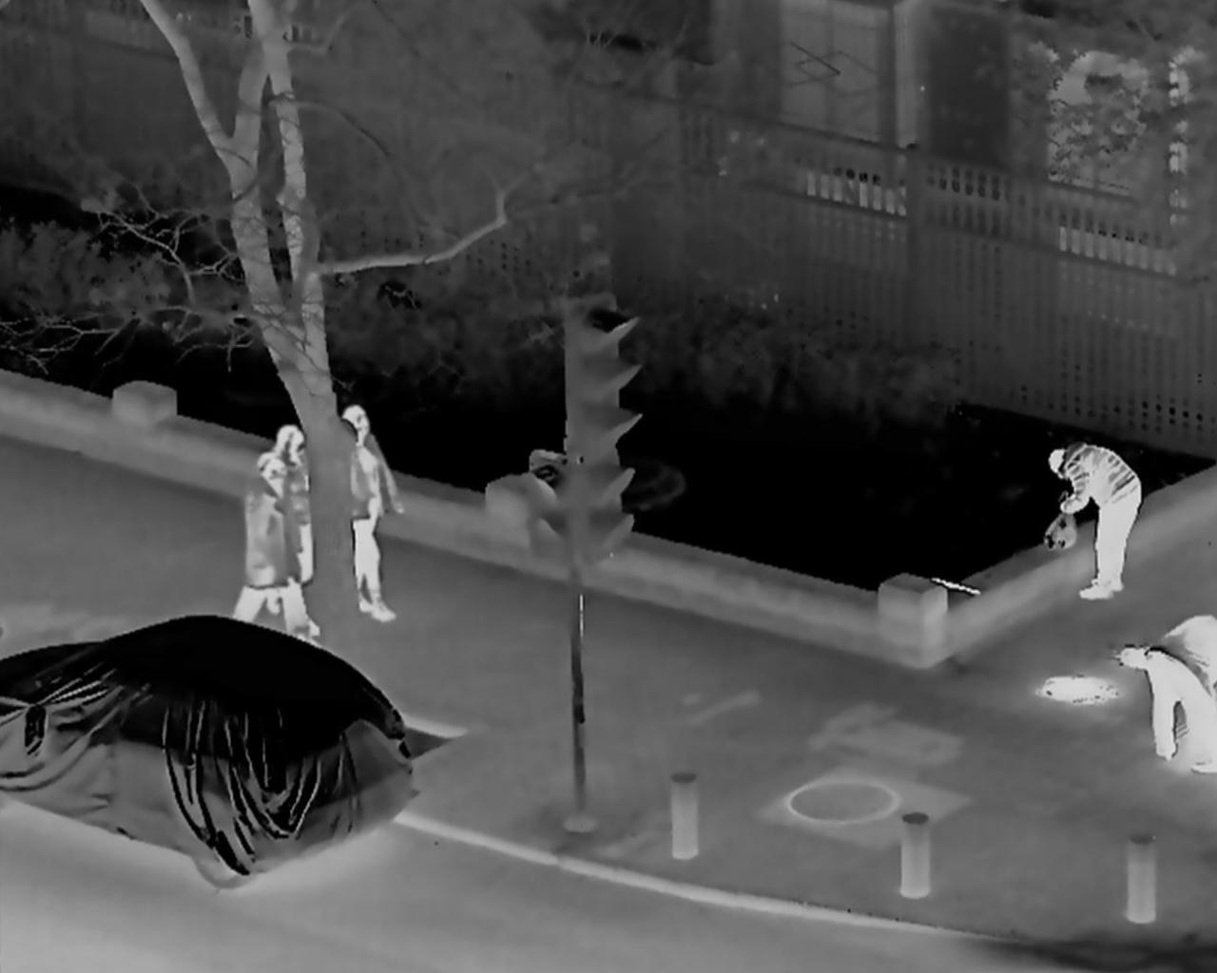person: (230, 456, 316, 644), (1045, 447, 1144, 604), (337, 407, 400, 625), (1140, 605, 1215, 776), (270, 427, 319, 630)
